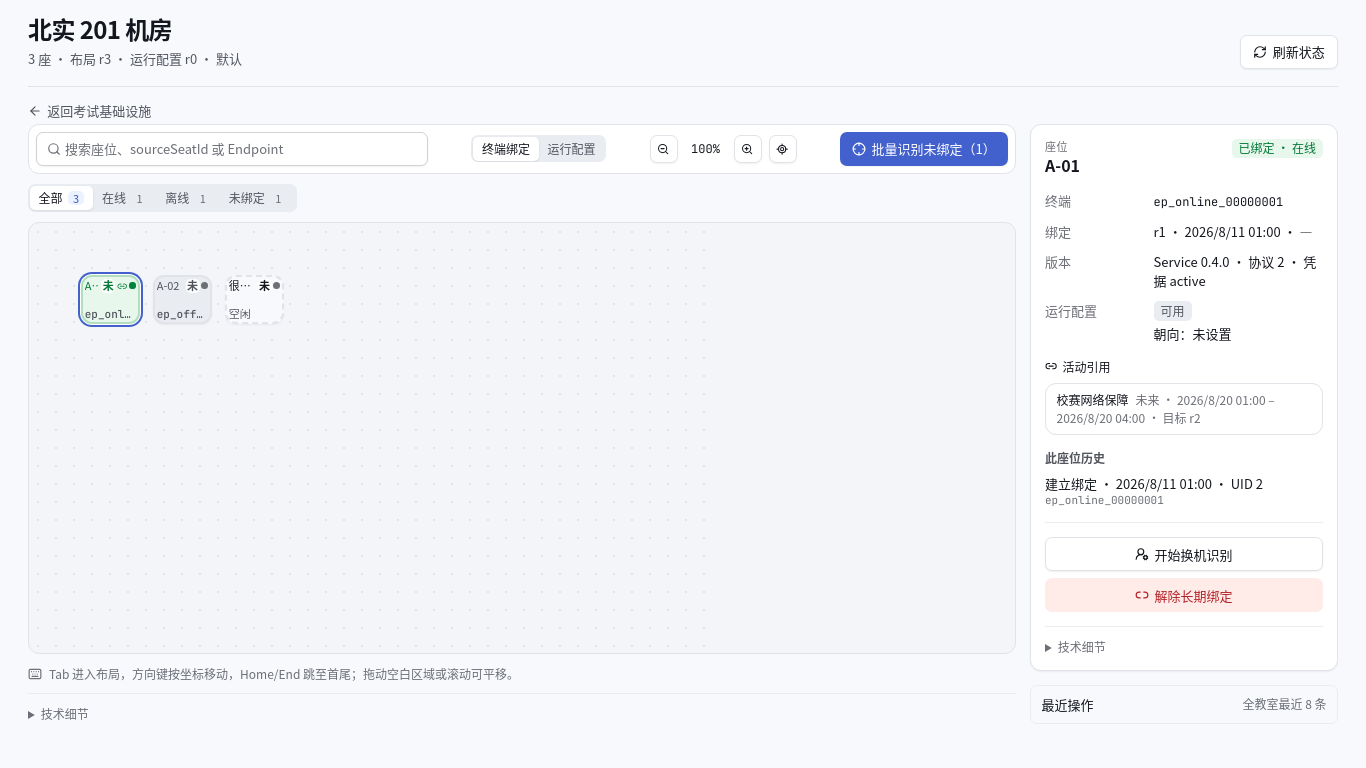
Test: exam classroom endpoint binding workspace › batch-selects seats and writes one complete current-layout facing revision
Click the tab "运行配置" at (572, 149), box [539,137,604,161]
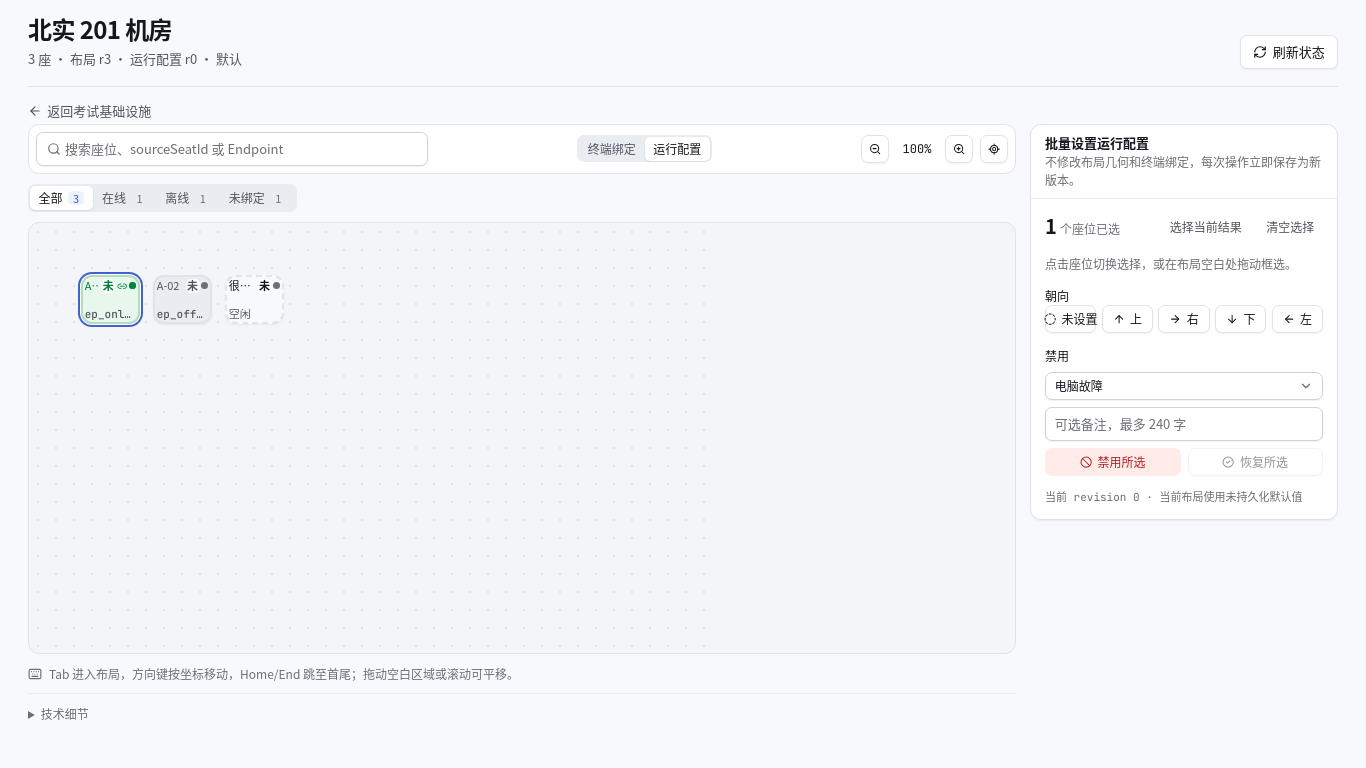
Click the button "选择当前结果" at (1206, 227), box [1161,213,1250,241]
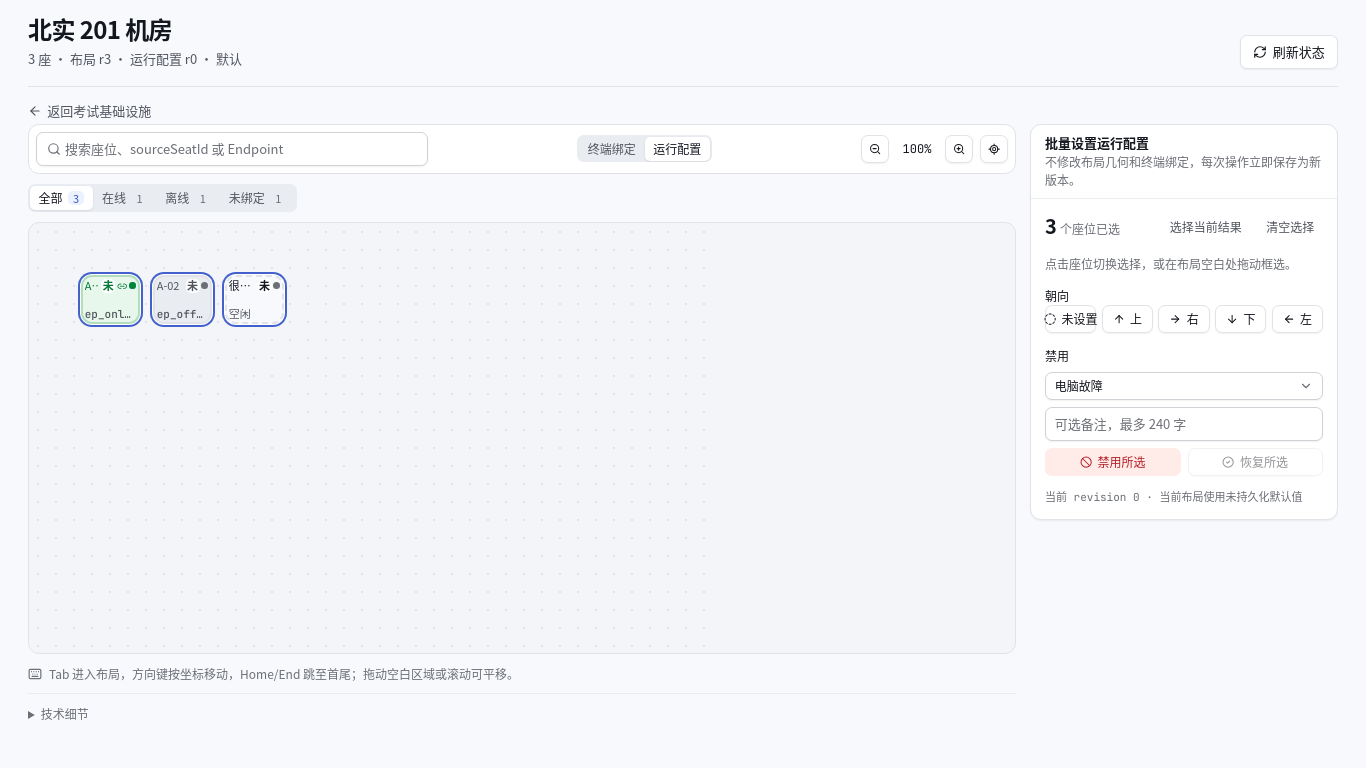
Click the button "左" at (1297, 319), box [1272,305,1323,333]
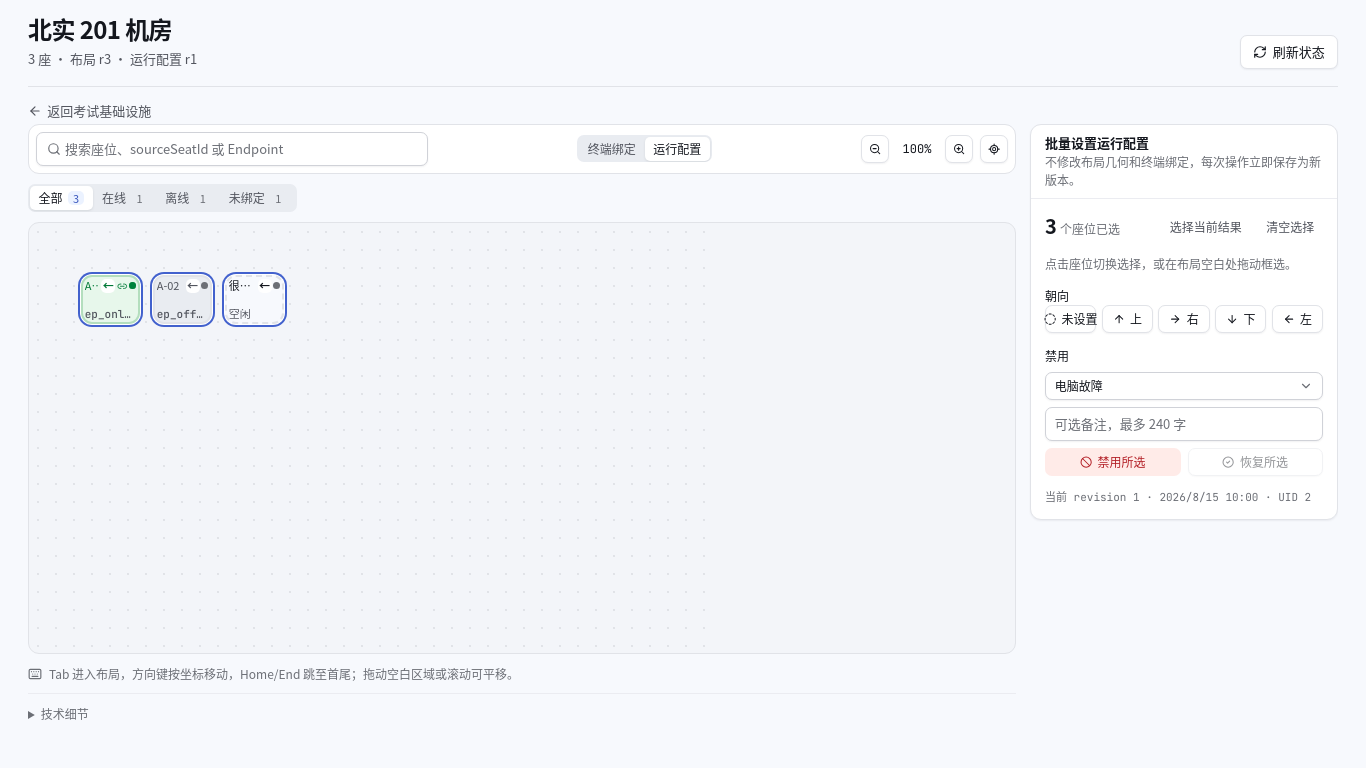
Now the text "3 座 · 布局 r3 · 运行配置 r1" is shown, box [28,49,197,69]
